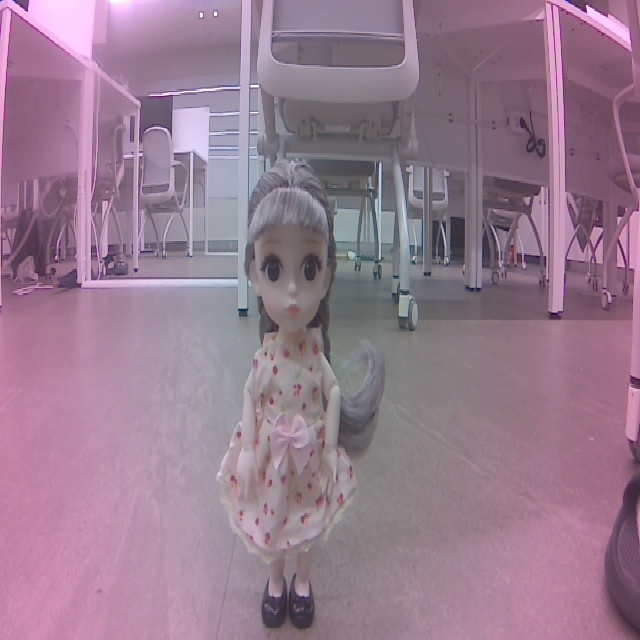장애물: (213, 152, 391, 640)
